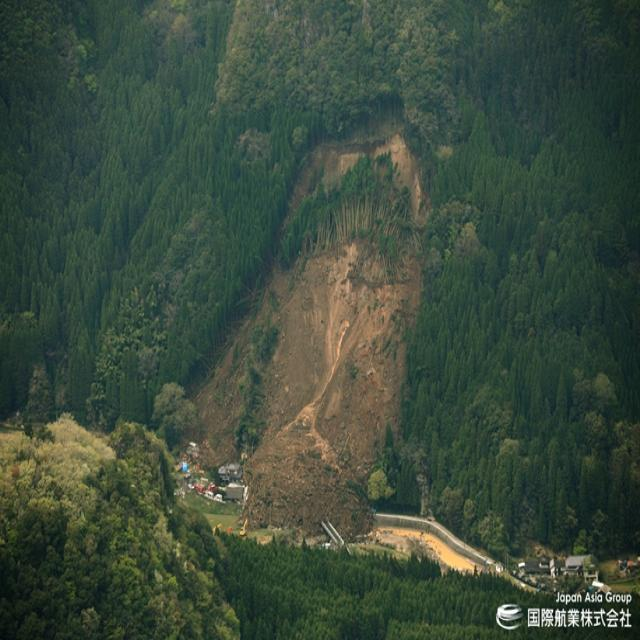Debris-flow: (195, 240, 422, 536), (289, 133, 428, 228)
